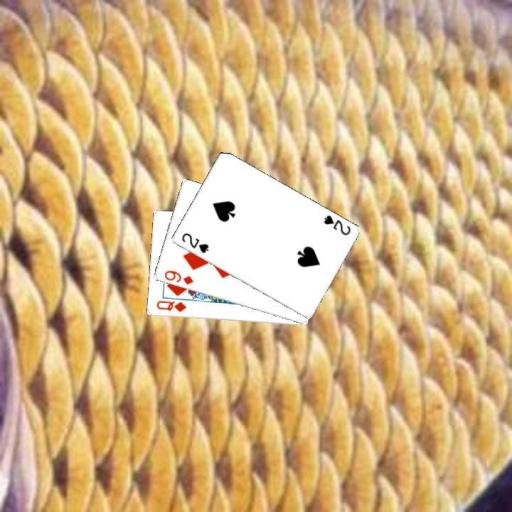2S: (178, 230, 210, 255), (320, 212, 352, 237)
9D: (161, 268, 195, 287)
QD: (153, 297, 188, 314)
